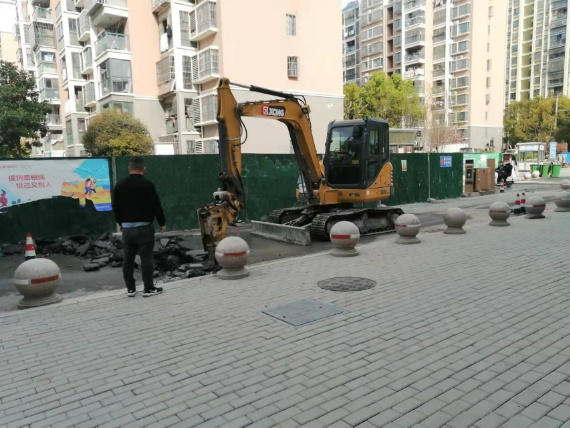good: (258, 297, 352, 326), (317, 277, 377, 292)
